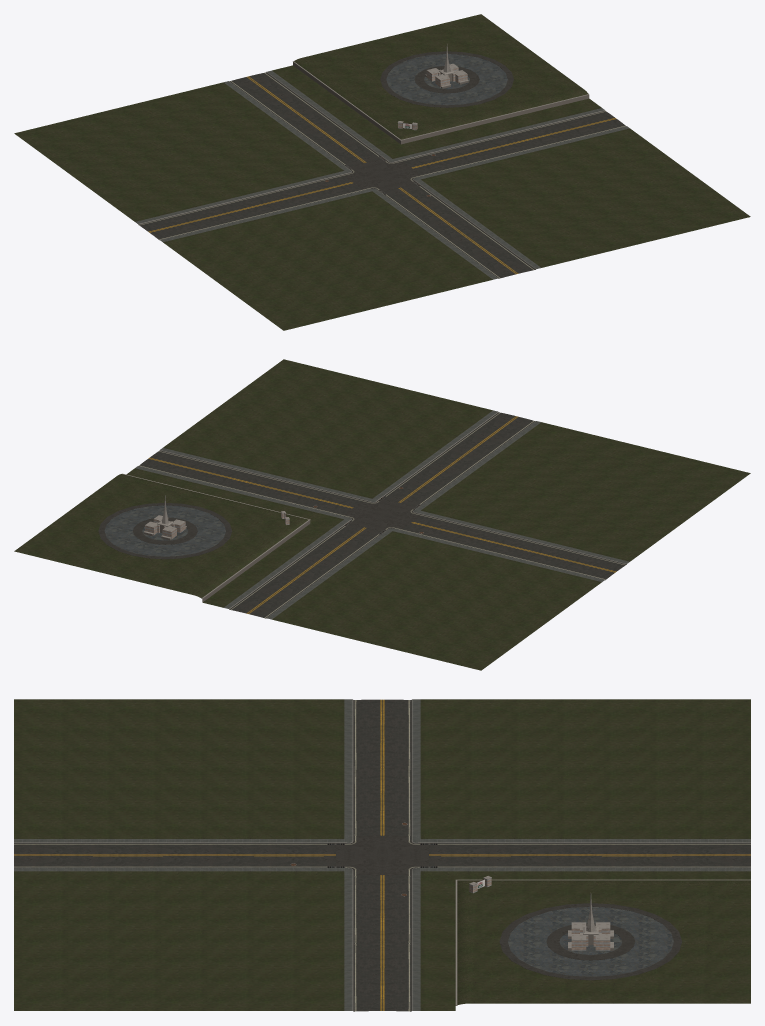
File: american_road_intersection.glb
The picture shows the model from 3 angles, top to bottom: view 1: azimuth 30°, elevation 25°; view 2: azimuth 150°, elevation 25°; view 3: azimuth 270°, elevation 25°; orthographic projection. The views are drawn at different scales.
Visible parts, largest first — view 1: Material2 (×7); view 2: Material2 (×7); view 3: Material2 (×7).
Part boxes in pixels (x1,y1,x2,y2): Material2 (×7): (14,14,750,330); Material2 (×7): (14,359,750,670); Material2 (×7): (14,699,750,1011).
Size of the model in its own units: 4230 by 363 by 4230.
14 materials, 11 textured.
